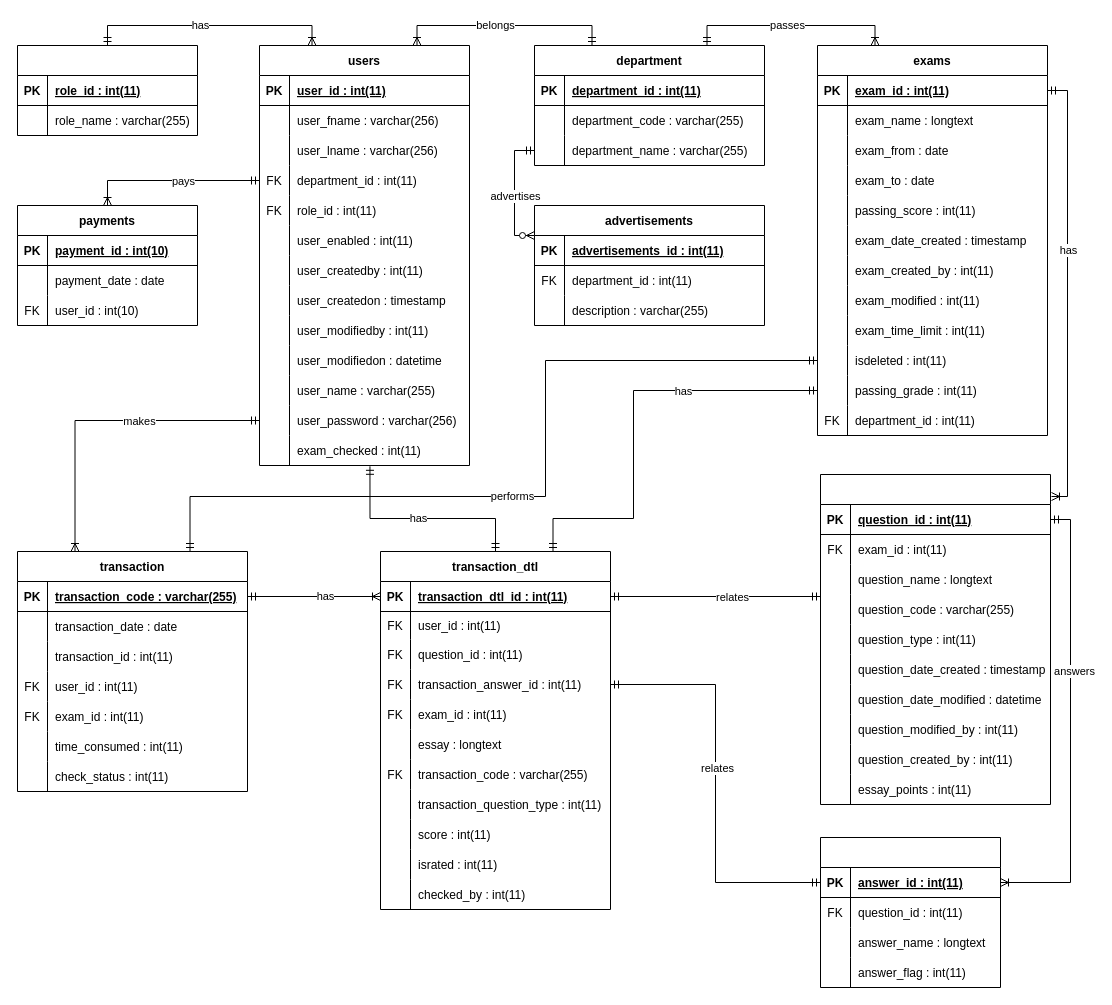
Image size: 1112x1005. Some labels were removed from this diagram. Here are the shapes that lost their labels. From the top down, the box of each, then its label:
(16, 44, 198, 136): user_roles
(820, 474, 1050, 804): exam_question
(820, 836, 1000, 988): exam_answers
